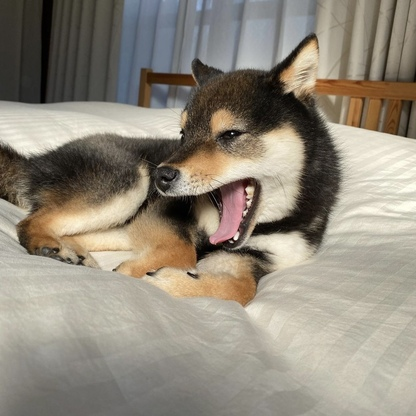shiba: (1, 23, 353, 314)
